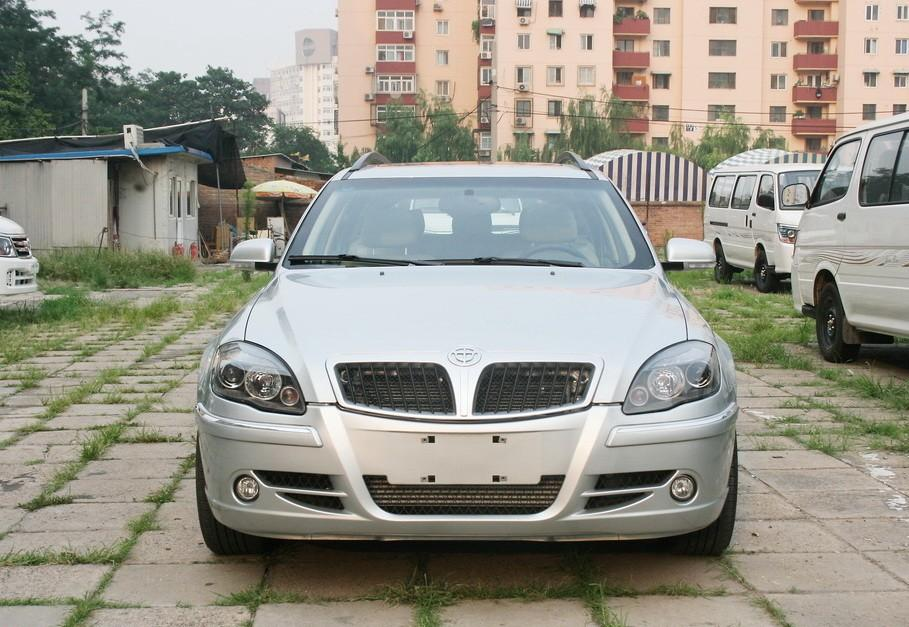Wagon: (195, 151, 739, 556)
